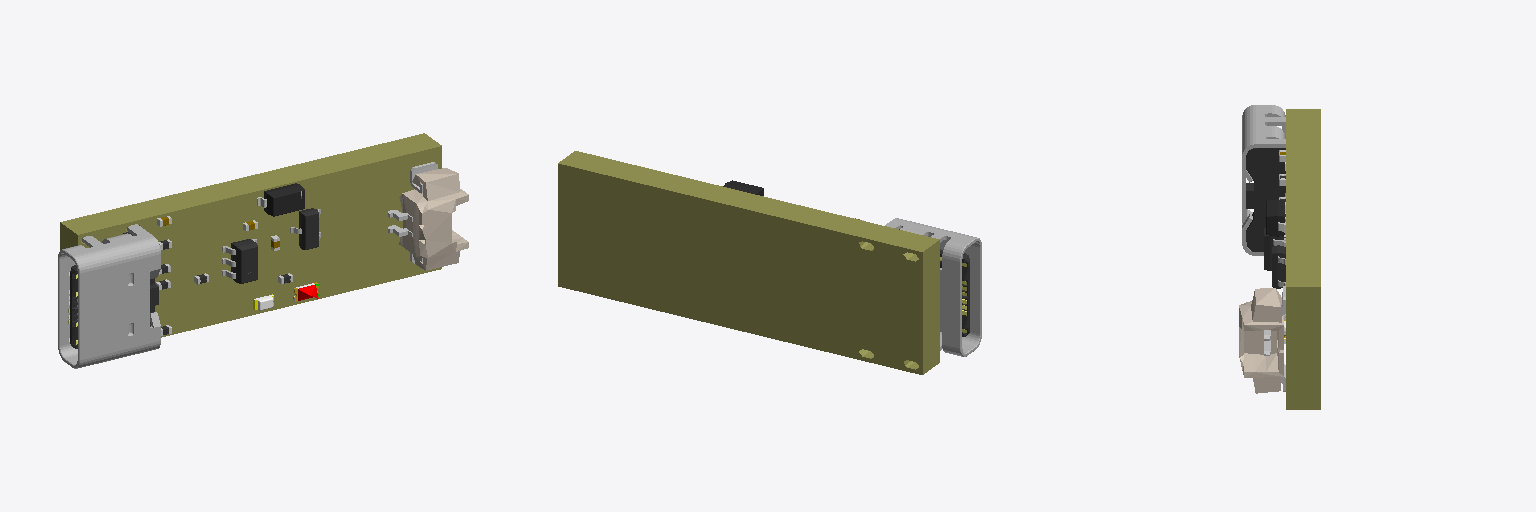
File: OBJ_PCB_tp4057-module.obj
3 views of the same model, side by side, from view 1: azimuth 30°, elevation 25°; view 2: azimuth 150°, elevation 25°; view 3: azimuth 270°, elevation 25° (orthographic).
Bounding box in the file's own units: 129 × 38.83 × 23.58.